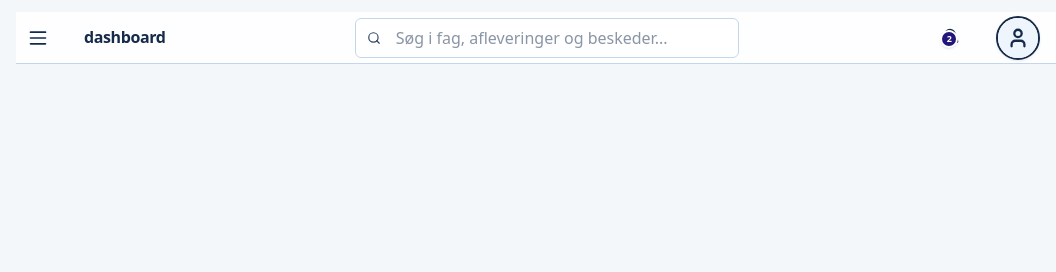
Scenario: Topbar › updates search query and shows dropdown
The image size is (1056, 272).
Step 1. Type "Digital" into the dropdown with placeholder "Søg i fag, afleveringer og beskeder..." → (547, 38), box [355,18,739,58]
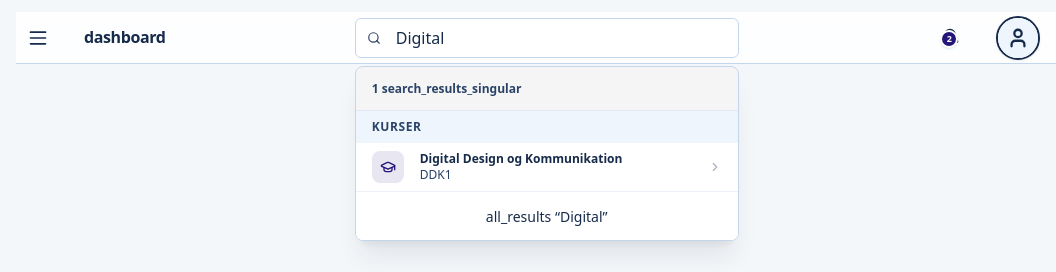
Expected: the text "Digital Design og Kommunikation" is shown, [420,151,622,167]
Expected: the text "1 search_results_singular" is shown, [372,80,522,96]
